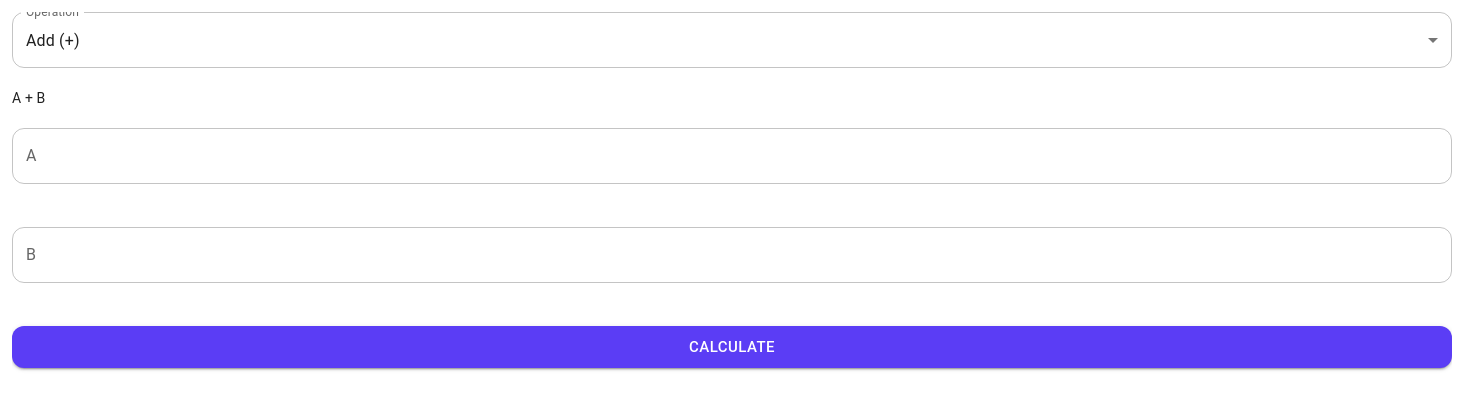
Test: CalculatorForm › rejects non-numeric input client-side
Type "abc" into the field labelled "A" at x=732, y=156, box [12,128,1452,184]
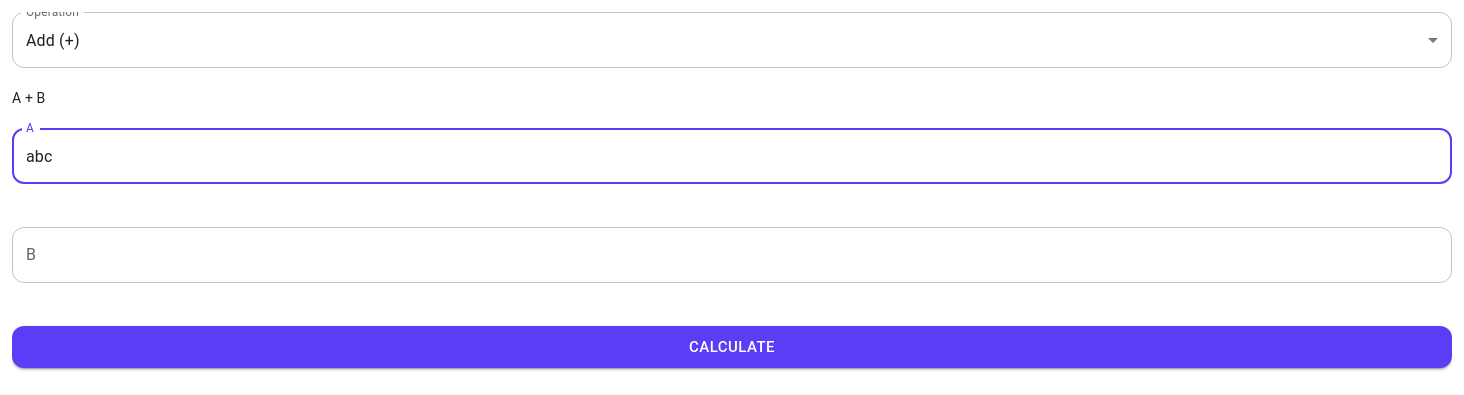
Type "2" into the field labelled "B" at x=732, y=255, box [12,227,1452,283]
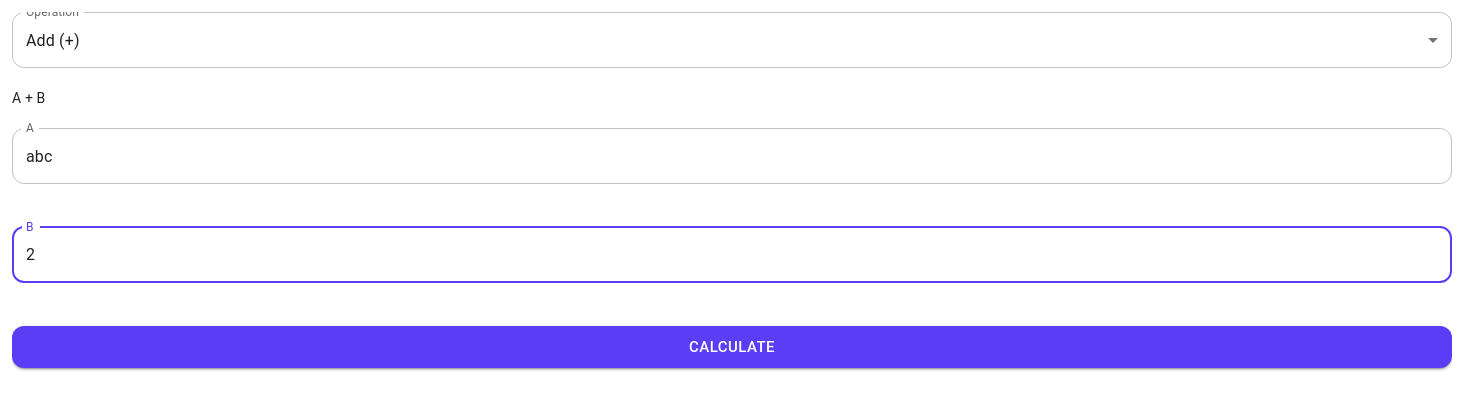
Click the button "Calculate" at x=732, y=347, box [12,326,1452,368]
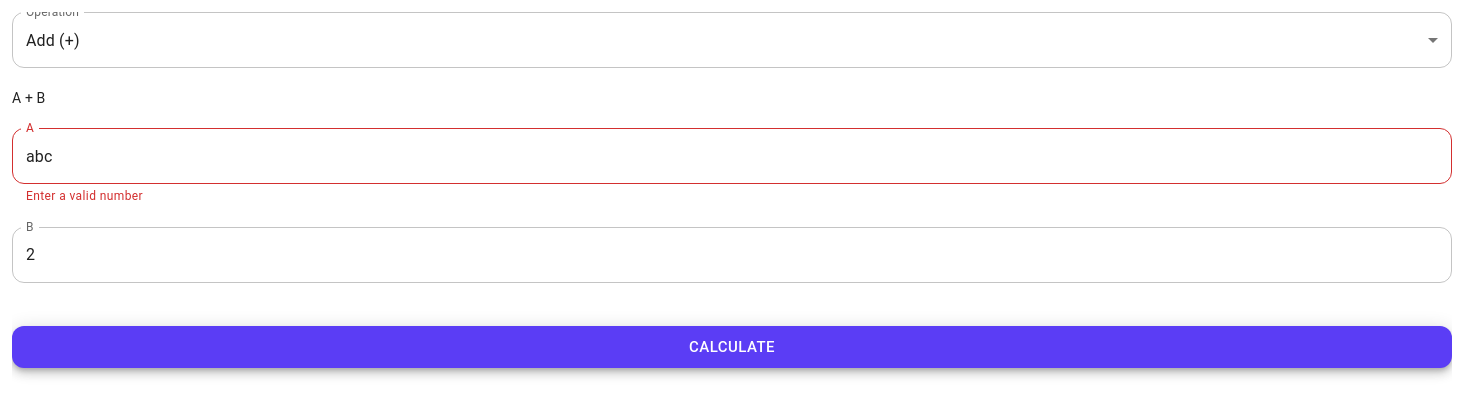
Now the text "Enter a valid number" is shown, box [26,189,143,203]
